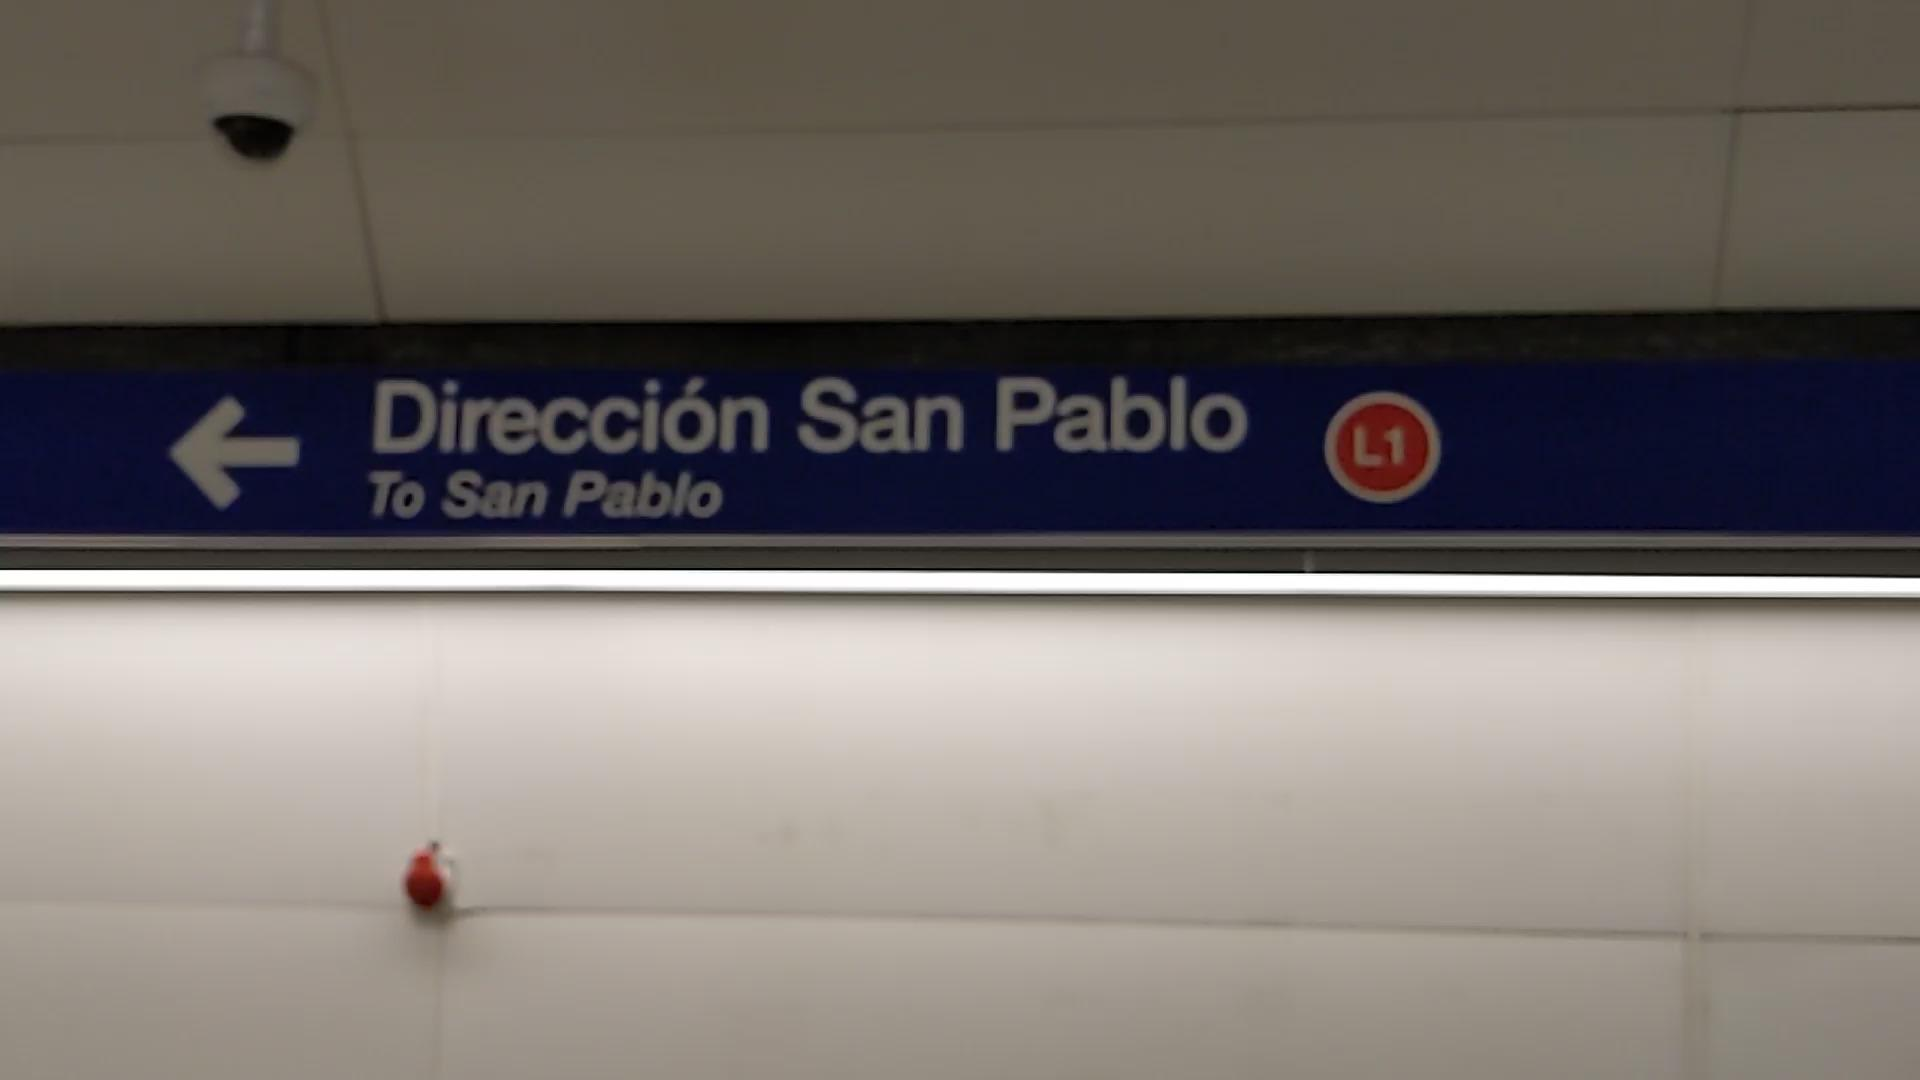left arrow: (166, 392, 306, 516)
